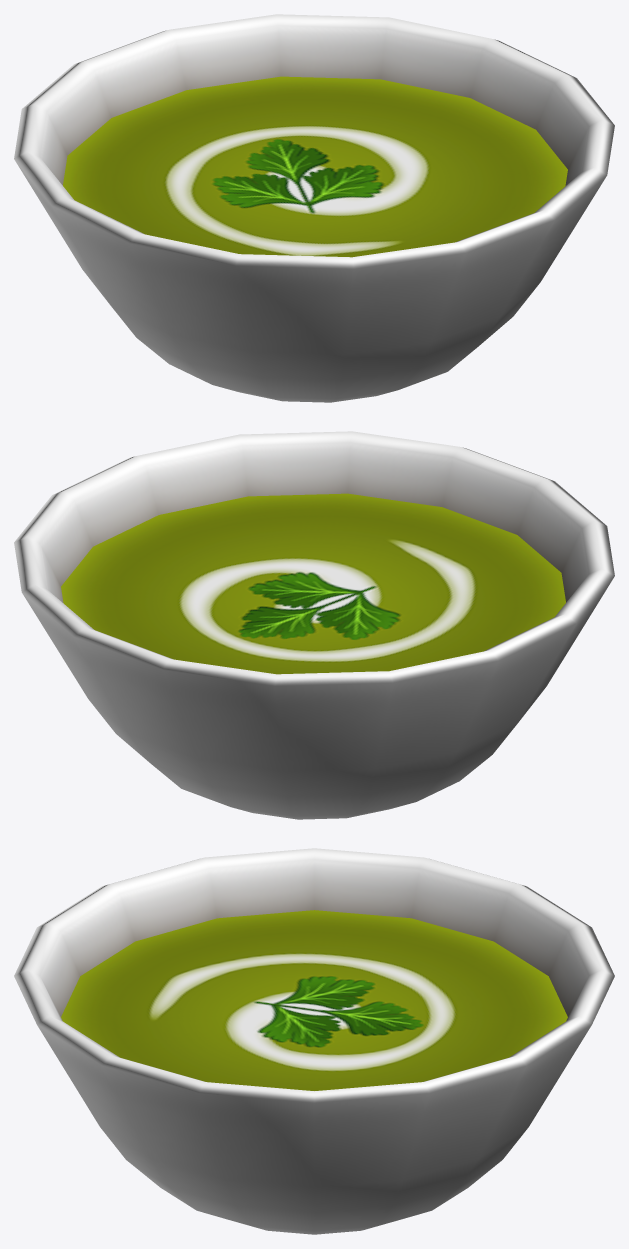
The model's file is 011-Soup_03.FBX.
The picture shows the model from 3 angles, top to bottom: view 1: azimuth 30°, elevation 25°; view 2: azimuth 150°, elevation 25°; view 3: azimuth 270°, elevation 25°; orthographic projection.
Parts seen in each view (by area): view 1: 011-Soup_03; view 2: 011-Soup_03; view 3: 011-Soup_03.
Boxes of the visible parts, x1,y1,x2,y2 form: 011-Soup_03: (14, 14, 614, 402); 011-Soup_03: (14, 431, 614, 819); 011-Soup_03: (14, 848, 614, 1234).
Size of the model in its own units: 21.83 by 8.53 by 21.83.
